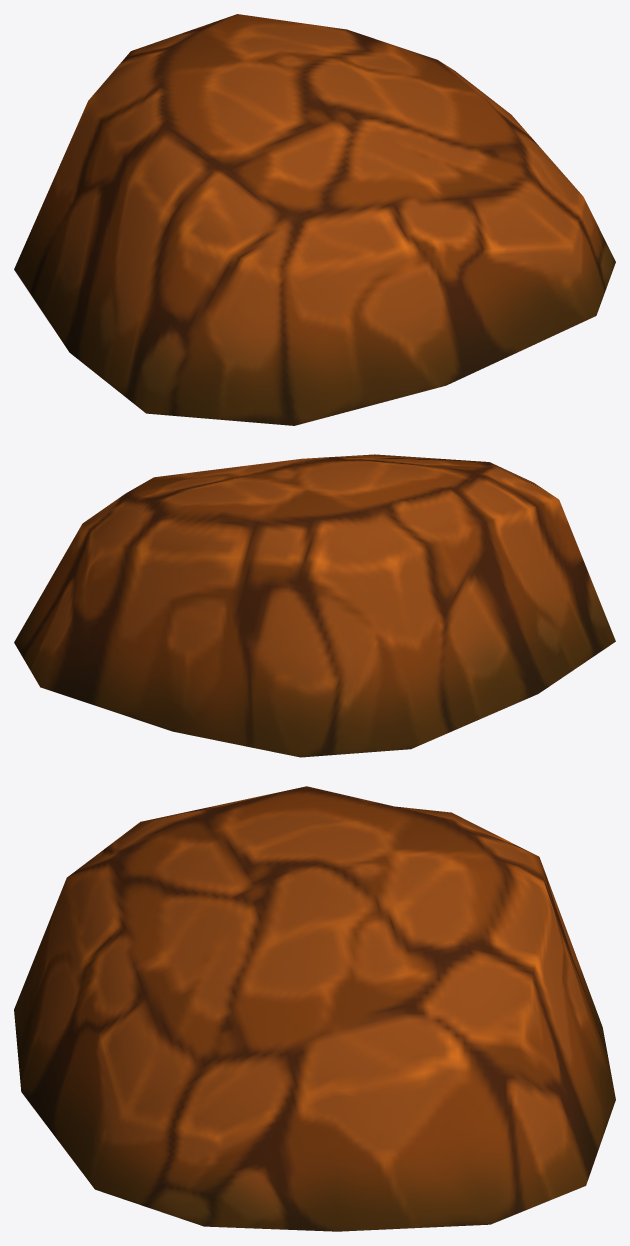
File: Rock_02.FBX
3 renders of one model, top to bottom at view 1: azimuth 30°, elevation 25°; view 2: azimuth 150°, elevation 25°; view 3: azimuth 270°, elevation 25°, orthographic. The views are drawn at different scales.
Visible parts, largest first — view 1: Rock_02; view 2: Rock_02; view 3: Rock_02.
Boxes of the visible parts, <box> form: Rock_02: <box>14,14,615,425</box>; Rock_02: <box>14,454,615,757</box>; Rock_02: <box>14,786,615,1231</box>.
Size of the model in its own units: 223 by 85.15 by 207.
